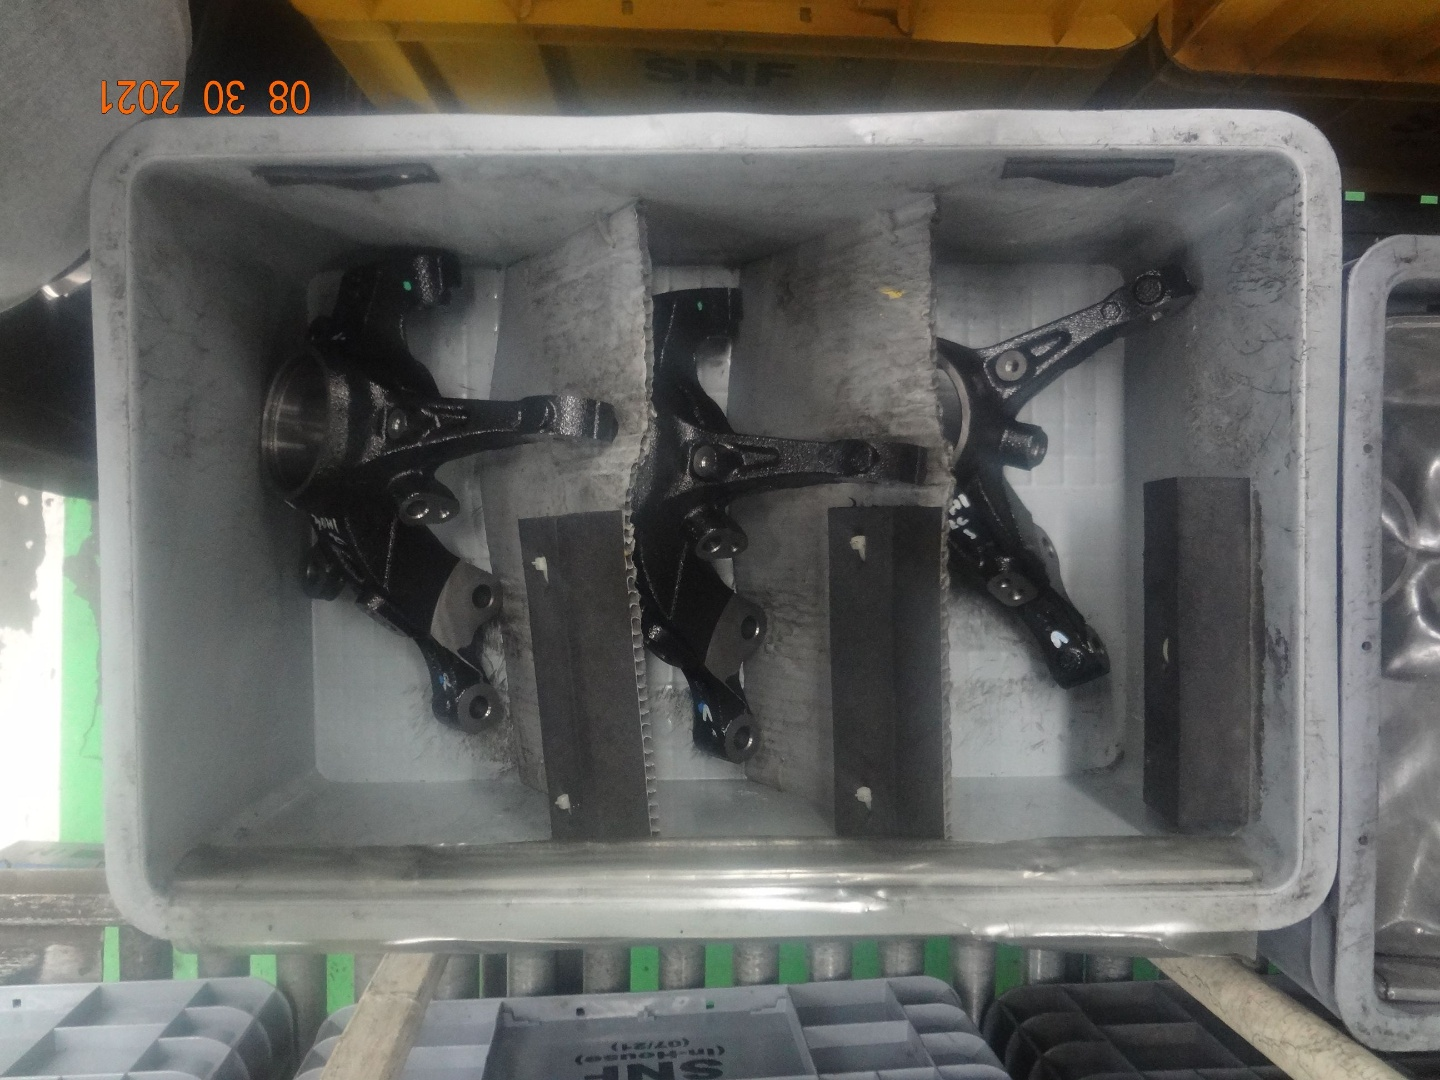abs-rh: (247, 243, 618, 750), (619, 268, 929, 763), (929, 241, 1204, 739)
